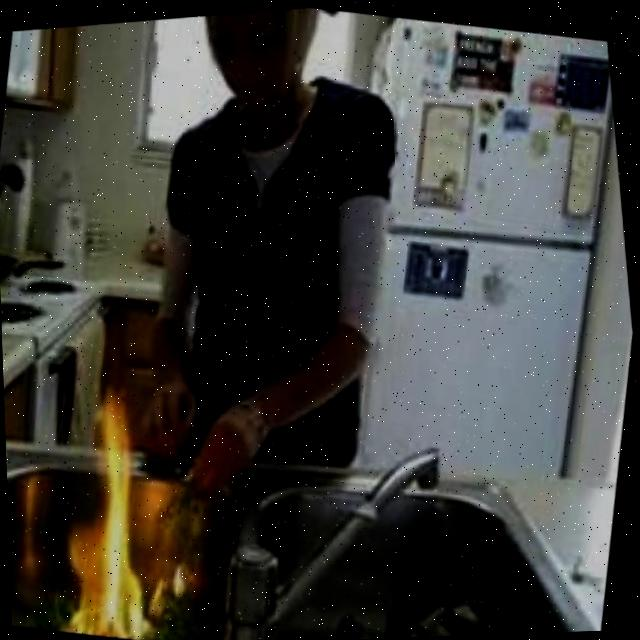fire: (53, 378, 192, 640)
